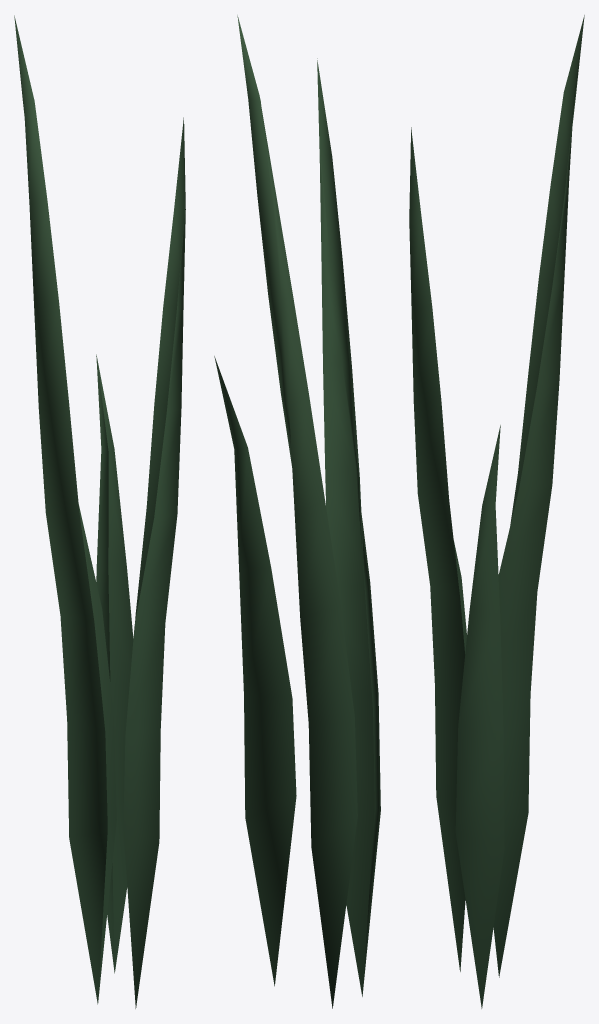
The model's file is trees-grasses-grass-blades_v14.glb.
3 renders of one model, left to right at view 1: azimuth 90°, elevation 25°; view 2: azimuth 150°, elevation 25°; view 3: azimuth 270°, elevation 25°, orthographic. The views are drawn at different scales.
Visible parts, largest first — view 1: Grass Blades_v14; view 2: Grass Blades_v14; view 3: Grass Blades_v14.
Part boxes in pixels (box(x1,y1,x2,y2)): Grass Blades_v14: box(14, 15, 185, 1008); Grass Blades_v14: box(214, 15, 380, 1008); Grass Blades_v14: box(409, 15, 584, 1008).
Size of the model in its own units: 0.0453 by 0.3 by 0.0482.
